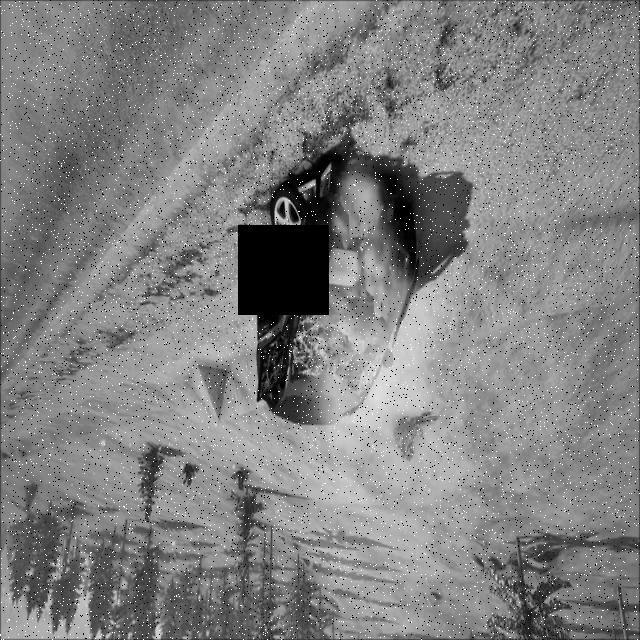vehicle: (220, 100, 466, 418)
